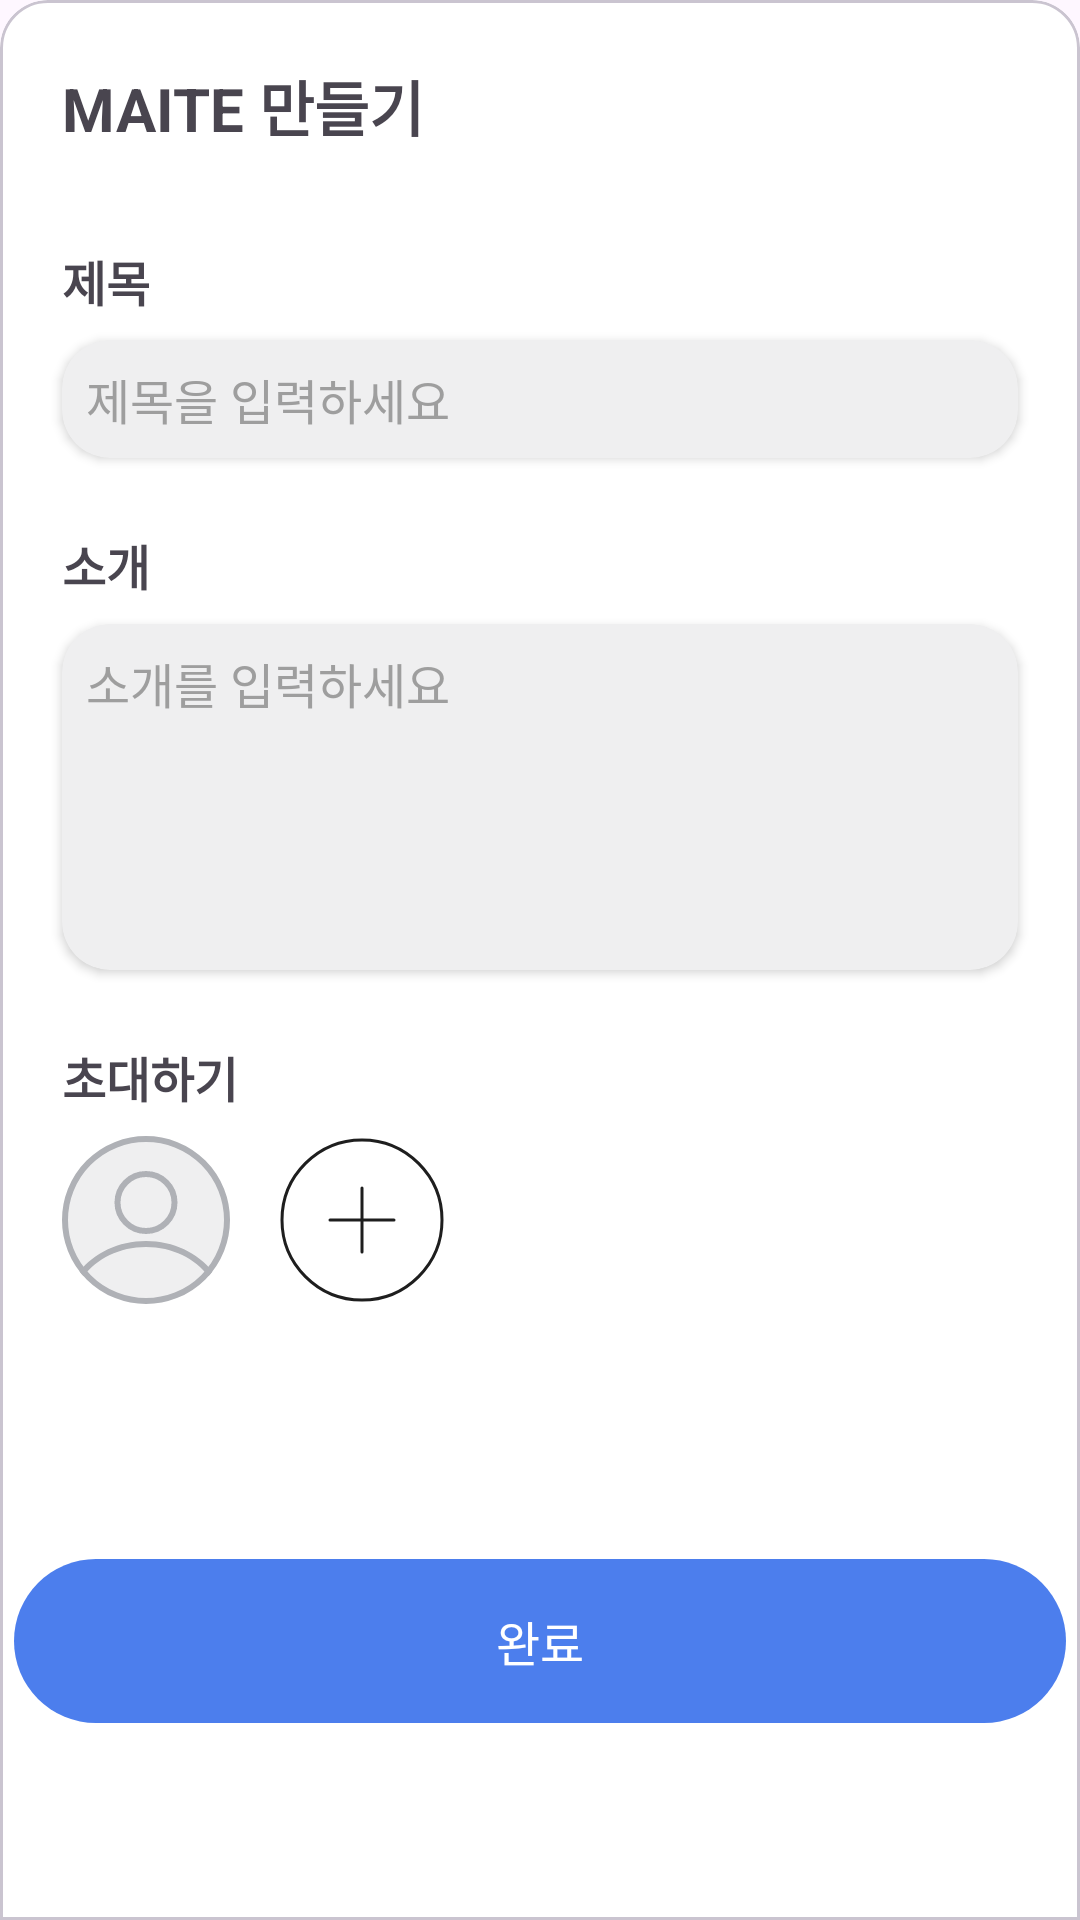

Point at icon controls on the screen. Image size 1080 x 1920, points as point (x, y).
add round: point (362, 1220)
profile: point (146, 1220)
